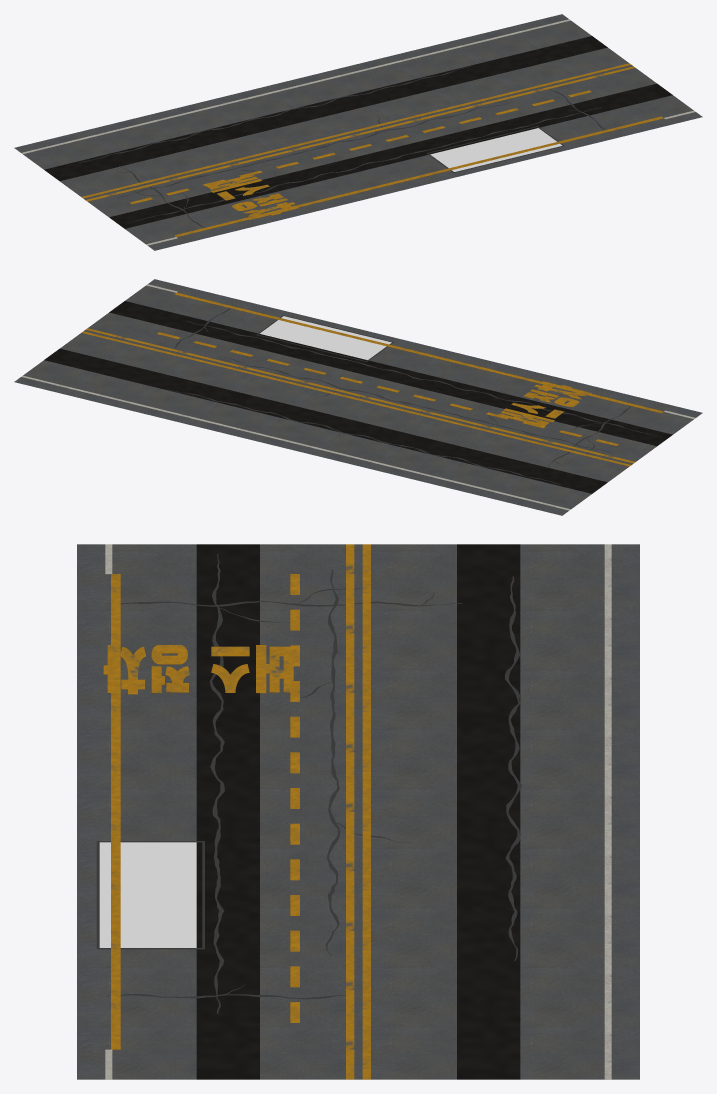
Rendered from StreetRoadBusStop.fbx.
3 views of the same model, one above another, from view 1: azimuth 30°, elevation 25°; view 2: azimuth 150°, elevation 25°; view 3: azimuth 270°, elevation 25° (orthographic). The views are drawn at different scales.
Parts seen in each view (by area): view 1: StreetRoadBusStop_Road; view 2: StreetRoadBusStop_Road; view 3: StreetRoadBusStop_Road.
Boxes of the visible parts, x1,y1,x2,y2 form: StreetRoadBusStop_Road: (14,14,702,250); StreetRoadBusStop_Road: (14,279,702,515); StreetRoadBusStop_Road: (77,544,639,1079).
Bounding box in the file's own units: 18 × 0.004 × 8.
